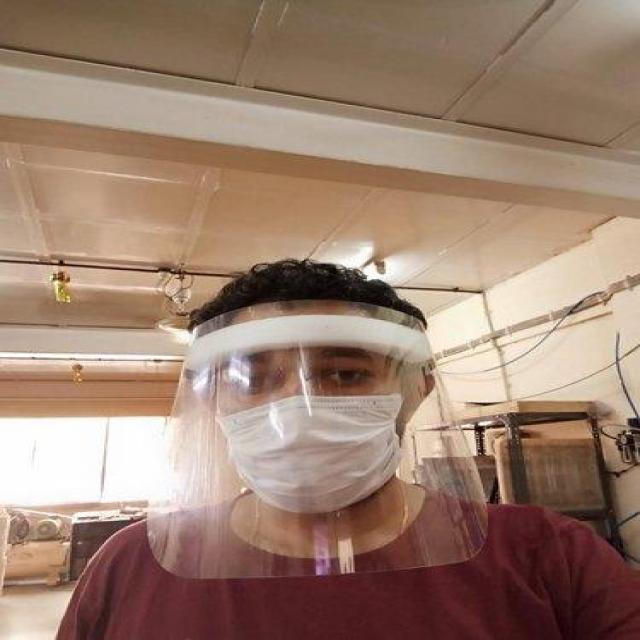Mask: (220, 394, 403, 517)
